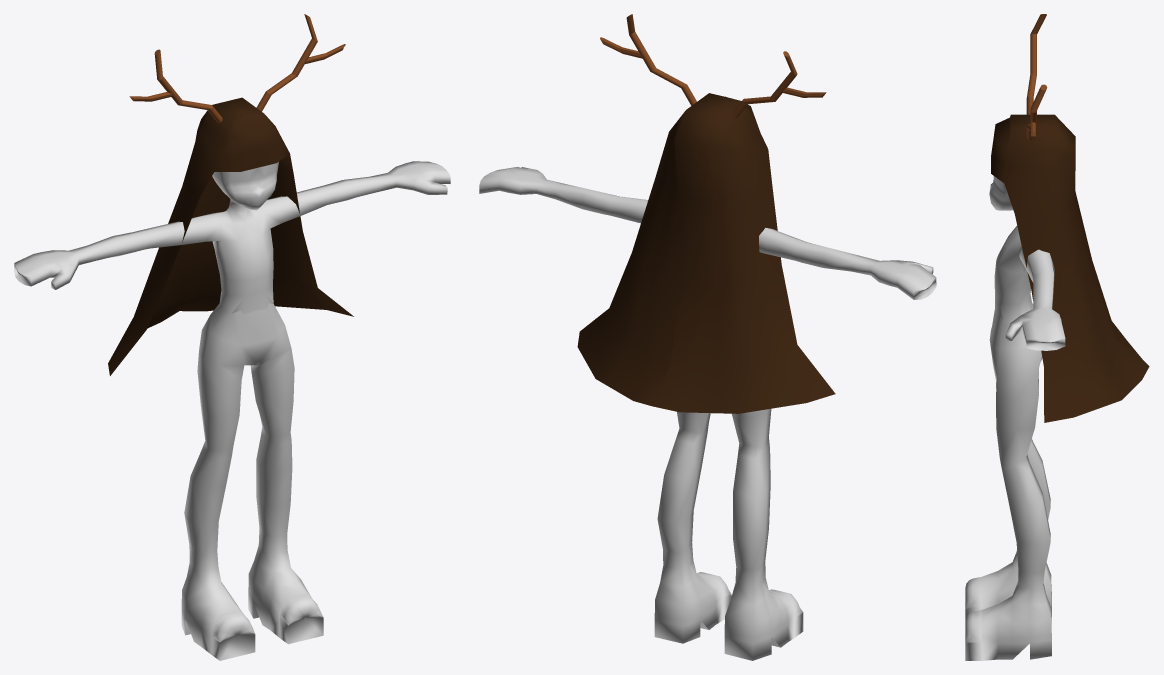
Rendered from espiritofloresta.fbx.
3 views of the same model, side by side, from view 1: azimuth 30°, elevation 25°; view 2: azimuth 150°, elevation 25°; view 3: azimuth 270°, elevation 25° (orthographic). The views are drawn at different scales.
Visible parts, largest first — view 1: KeyframeChef_LowPoly_Base, Plane, Cylinder; view 2: Plane, KeyframeChef_LowPoly_Base, Cylinder; view 3: KeyframeChef_LowPoly_Base, Plane, Cylinder.
Part boxes in pixels (x1,y1,x2,y2): KeyframeChef_LowPoly_Base: [14, 161, 450, 660]; Plane: [108, 97, 353, 375]; Cylinder: [129, 14, 345, 123]; Plane: [577, 93, 835, 413]; KeyframeChef_LowPoly_Base: [479, 167, 936, 660]; Cylinder: [600, 14, 826, 118]; KeyframeChef_LowPoly_Base: [965, 176, 1065, 660]; Plane: [991, 114, 1149, 422]; Cylinder: [1026, 14, 1047, 140].
Size of the model in its own units: 144 by 191 by 54.32.
Materials: 3 (2 with a texture image).
